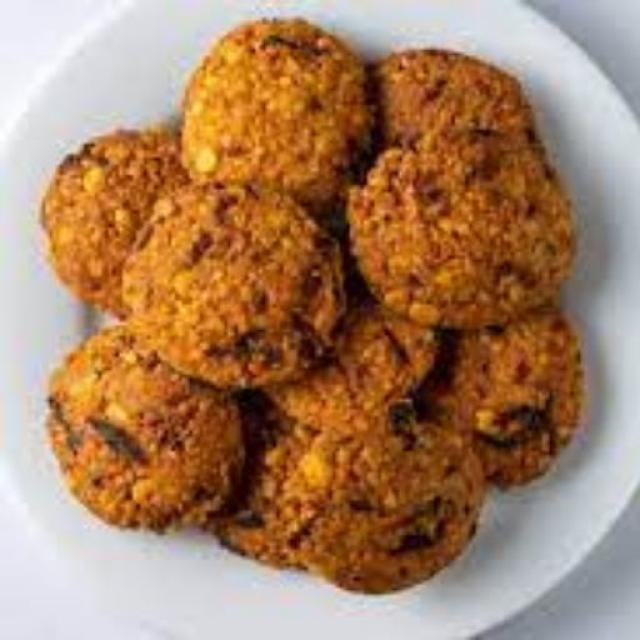dhal wade: (129, 193, 347, 377), (348, 148, 576, 316), (279, 413, 486, 595)
